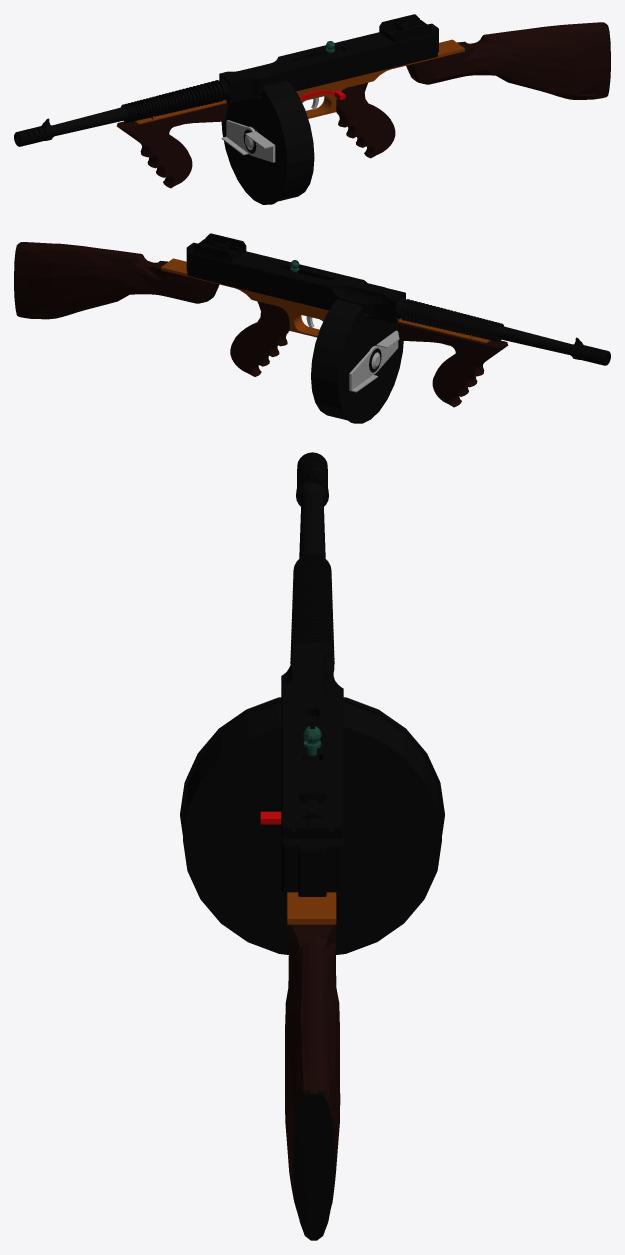
The model's file is tommygun.obj.
The picture shows the model from 3 angles, top to bottom: view 1: azimuth 30°, elevation 25°; view 2: azimuth 150°, elevation 25°; view 3: azimuth 270°, elevation 25°; orthographic projection. The views are drawn at different scales.
Visible parts, largest first — view 1: stock, drum, receiver, grip, barrel, rgrip, action, winder, sight, supressor, mount; view 2: stock, drum, receiver, grip, barrel, rgrip, action, winder, sight, supressor, mount; view 3: drum, receiver, stock, barrel, butt, sight, action.
Part boxes in pixels (<box>): stock: <box>406,22,609,99</box>; drum: <box>221,80,314,204</box>; receiver: <box>219,23,438,104</box>; grip: <box>116,103,228,188</box>; barrel: <box>50,78,231,137</box>; rgrip: <box>336,82,395,158</box>; action: <box>296,39,464,118</box>; winder: <box>221,120,275,162</box>; sight: <box>379,14,432,42</box>; supressor: <box>14,118,52,146</box>; mount: <box>134,99,226,124</box>; stock: <box>15,242,219,319</box>; drum: <box>311,299,403,423</box>; receiver: <box>186,242,405,323</box>; grip: <box>396,322,508,407</box>; barrel: <box>393,297,574,355</box>; rgrip: <box>230,301,289,376</box>; action: <box>161,258,328,337</box>; winder: <box>349,330,399,392</box>; sight: <box>192,233,246,261</box>; supressor: <box>572,337,610,365</box>; mount: <box>396,318,490,343</box>; drum: <box>180,697,444,954</box>; receiver: <box>281,643,343,896</box>; stock: <box>285,924,340,1217</box>; barrel: <box>290,481,334,671</box>; butt: <box>293,1090,334,1240</box>; sight: <box>282,785,342,838</box>; action: <box>287,892,336,924</box>.
Bounding box in the file's own units: 4.66 × 1.06 × 0.9072.
